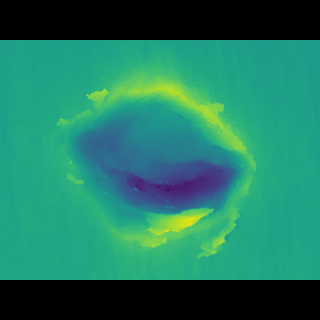Loch: (44, 81, 259, 235)
